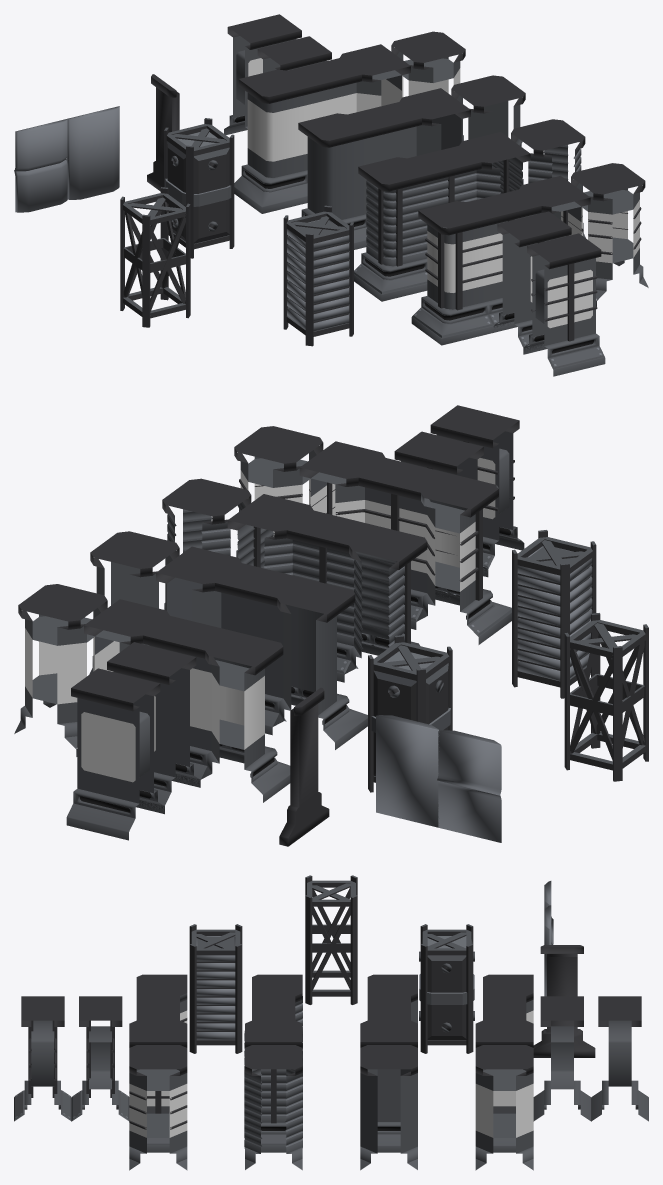
The model's file is eikowalls_alt_colors (1).fbx.
3 views of the same model, one above another, from view 1: azimuth 30°, elevation 25°; view 2: azimuth 150°, elevation 25°; view 3: azimuth 270°, elevation 25° (orthographic). The views are drawn at different scales.
Parts seen in each view (by area): view 1: Reinforced Glass Wall I Solo, Reinforced Glass Wall L, Reinforced Wall L, Glass Wall L, Reinforced Wall Phase 1, Wall Phase 1, Wall Girder, Wall L, Reinforced Glass Wall X, Reinforced Glass Wall I End, Wall Panel 2, Wall Panel 1 (+14 smaller); view 2: Glass Wall I Solo, Reinforced Wall Phase 1, Wall Girder, Reinforced Glass Wall L, Glass Wall L, Glass Wall X, Wall L, Wall Phase 1, Glass Wall I End, Reinforced Wall I, Wall Panel 2, Wall I (+14 smaller); view 3: Wall Phase 1, Reinforced Wall Phase 1, Glass Wall X, Reinforced Glass Wall X, Wall Girder, Wall X, Reinforced Wall X, Reinforced Glass Wall I Solo, Reinforced Glass Wall I End, Glass Wall I Solo, Glass Wall I End, Reinforced Wall T (+13 smaller).
Boxes of the visible parts, left/top/right/bottom form: Reinforced Glass Wall I Solo: left=523, top=233, right=605, bottom=376; Reinforced Glass Wall L: left=411, top=201, right=493, bottom=345; Reinforced Wall L: left=354, top=157, right=429, bottom=301; Glass Wall L: left=234, top=69, right=309, bottom=213; Reinforced Wall Phase 1: left=283, top=205, right=353, bottom=346; Wall Phase 1: left=164, top=118, right=234, bottom=258; Wall Girder: left=120, top=187, right=190, bottom=327; Wall L: left=298, top=113, right=369, bottom=249; Reinforced Glass Wall X: left=571, top=163, right=648, bottom=300; Reinforced Glass Wall I End: left=493, top=211, right=571, bottom=354; Wall Panel 2: left=14, top=118, right=67, bottom=212; Wall Panel 1: left=67, top=106, right=119, bottom=199; Glass Wall I Solo: left=66, top=668, right=164, bottom=840; Reinforced Wall Phase 1: left=512, top=530, right=596, bottom=698; Wall Girder: left=564, top=613, right=648, bottom=781; Reinforced Glass Wall L: left=416, top=473, right=511, bottom=644; Glass Wall L: left=201, top=631, right=290, bottom=802; Glass Wall X: left=14, top=584, right=107, bottom=749; Wall L: left=273, top=578, right=367, bottom=749; Wall Phase 1: left=368, top=635, right=452, bottom=792; Glass Wall I End: left=107, top=642, right=200, bottom=813; Reinforced Wall I: left=286, top=510, right=380, bottom=682; Wall Panel 2: left=437, top=730, right=501, bottom=842; Wall I: left=215, top=563, right=304, bottom=735; Wall Phase 1: left=419, top=924, right=474, bottom=1053; Reinforced Wall Phase 1: left=189, top=924, right=242, bottom=1053; Glass Wall X: left=475, top=1045, right=533, bottom=1170; Reinforced Glass Wall X: left=129, top=1045, right=187, bottom=1170; Wall Girder: left=305, top=875, right=357, bottom=1004; Wall X: left=360, top=1045, right=417, bottom=1170; Reinforced Wall X: left=244, top=1045, right=302, bottom=1170; Reinforced Glass Wall I Solo: left=14, top=996, right=71, bottom=1121; Reinforced Glass Wall I End: left=71, top=996, right=129, bottom=1121; Glass Wall I Solo: left=591, top=996, right=648, bottom=1121; Glass Wall I End: left=533, top=996, right=591, bottom=1121; Reinforced Wall T: left=244, top=1020, right=302, bottom=1152.
Bounding box in the file's own units: 8.02 × 2.06 × 11.
